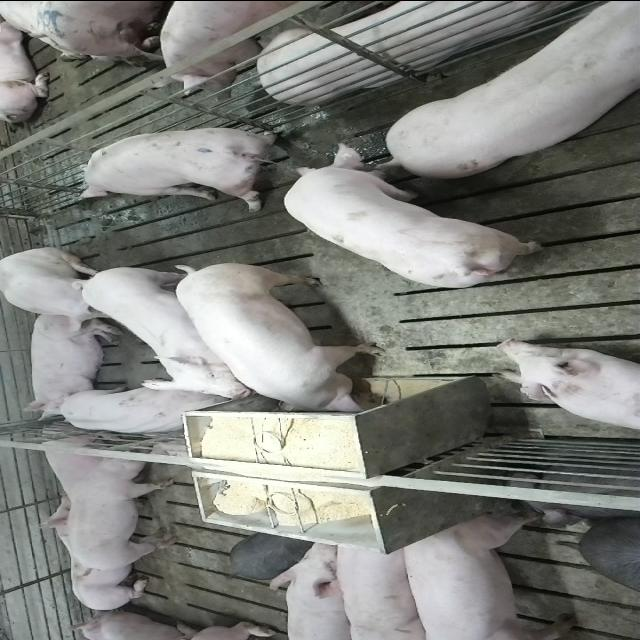Feeding: (172, 264, 392, 420)
Lateral_lying: (200, 0, 589, 101), (22, 312, 127, 418)
Sitting: (1, 246, 131, 330)
Standing: (382, 0, 640, 174), (285, 146, 549, 292), (76, 260, 260, 397), (396, 508, 581, 639), (74, 123, 297, 210), (159, 0, 331, 94), (66, 446, 176, 574), (330, 531, 432, 637), (267, 536, 358, 636)
Sternal_lying: (29, 494, 158, 609), (495, 339, 640, 434), (45, 383, 224, 438), (35, 427, 119, 500)
